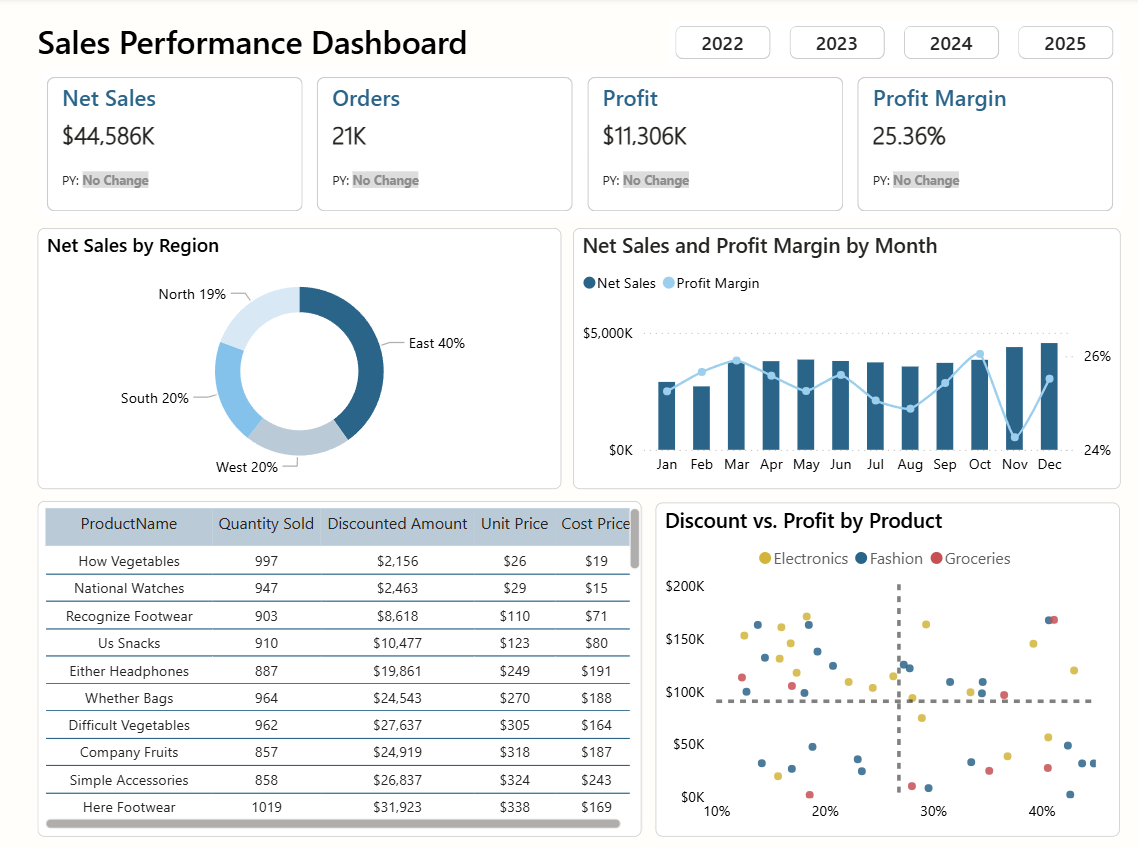

What the dashboard file says about the page in this screenshot:
{"tool":"powerbi","page":{"name":"Page 3","canvas":[960,720],"ordinal":0},"visuals":[{"type":"slicer","fields":{"Values":["Dim_Stores.Region"]},"box":[1074.7,96,134.7,130.3],"z":0},{"type":"tableEx","fields":{"Values":["Dim_Products.ProductName","_Measures.Total_Quantity","Dim_Products.UnitPrice","Dim_Products.CostPrice","_Measures.Total_Dis_Amount"]},"box":[34.4,423.3,507.4,281.8],"z":1000},{"type":"cardVisual","fields":{"Data":["_Measures.Total_Sales_InDis","_Measures.Total_Orders","_Measures.Total_Profit","_Measures.Profit_Margin"]},"box":[37,61.2,907.7,123.7],"z":2000},{"type":"textbox","box":[28.9,13.5,666.2,47.3],"z":3000},{"type":"scatterChart","title":"Discount vs. Profit by Product","fields":{"Category":["Dim_Products.ProductName"],"X":["_Measures.Profit_Margin"],"Series":["Dim_Products.Category"],"Y":["_Measures.Total_Dis_Amount"]},"box":[553.4,424.7,389.8,280.6],"z":4000},{"type":"donutChart","fields":{"Category":["Dim_Stores.Region"],"Y":["_Measures.Total_Sales_InDis"]},"box":[34.4,193.8,439.8,219.3],"z":5000},{"type":"lineClusteredColumnComboChart","fields":{"Category":["DimDate.MonthNameShort"],"Y":["_Measures.Total_Sales_InDis"],"Y2":["_Measures.Profit_Margin"]},"box":[483.2,193.8,460.2,219.3],"z":6000},{"type":"advancedSlicerVisual","fields":{"Values":["DimDate.Year"]},"box":[564.3,18.4,378.8,38.7],"z":7000}]}

Visuals, with their boxes in screenshot pixels (x1, y1, x2, y2), scaled from the page's 960x720 canvas onto the 1138x847 screenshot:
tableEx - Dim_Products.ProductName x _Measures.Total_Quantity: 41/498/642/829
cardVisual - _Measures.Total_Sales_InDis x _Measures.Total_Orders: 44/72/1120/218
textbox: 34/16/824/72
"Discount vs. Profit by Product" scatterChart: 656/500/1118/830
donutChart - Dim_Stores.Region x _Measures.Total_Sales_InDis: 41/228/562/486
lineClusteredColumnComboChart - DimDate.MonthNameShort x _Measures.Total_Sales_InDis: 573/228/1118/486
advancedSlicerVisual - DimDate.Year: 669/22/1118/67
